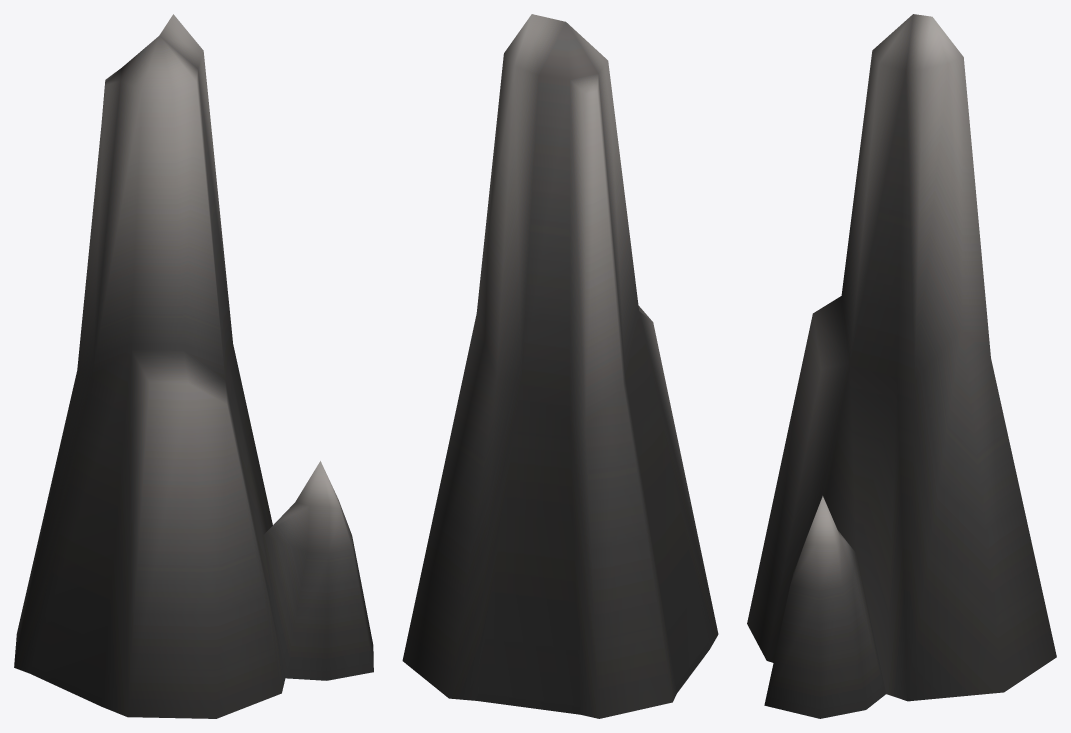
The model's file is m_Rocks04_A.fbx.
3 views of the same model, side by side, from view 1: azimuth 30°, elevation 25°; view 2: azimuth 150°, elevation 25°; view 3: azimuth 270°, elevation 25° (orthographic). The views are drawn at different scales.
Visible parts, largest first — view 1: m_Rocks04_A; view 2: m_Rocks04_A; view 3: m_Rocks04_A.
Boxes of the visible parts, box(x1,y1,x2,y2) form: m_Rocks04_A: box(14, 14, 373, 718); m_Rocks04_A: box(402, 14, 718, 718); m_Rocks04_A: box(747, 14, 1056, 718).
Bounding box in the file's own units: 146 × 299 × 133.
